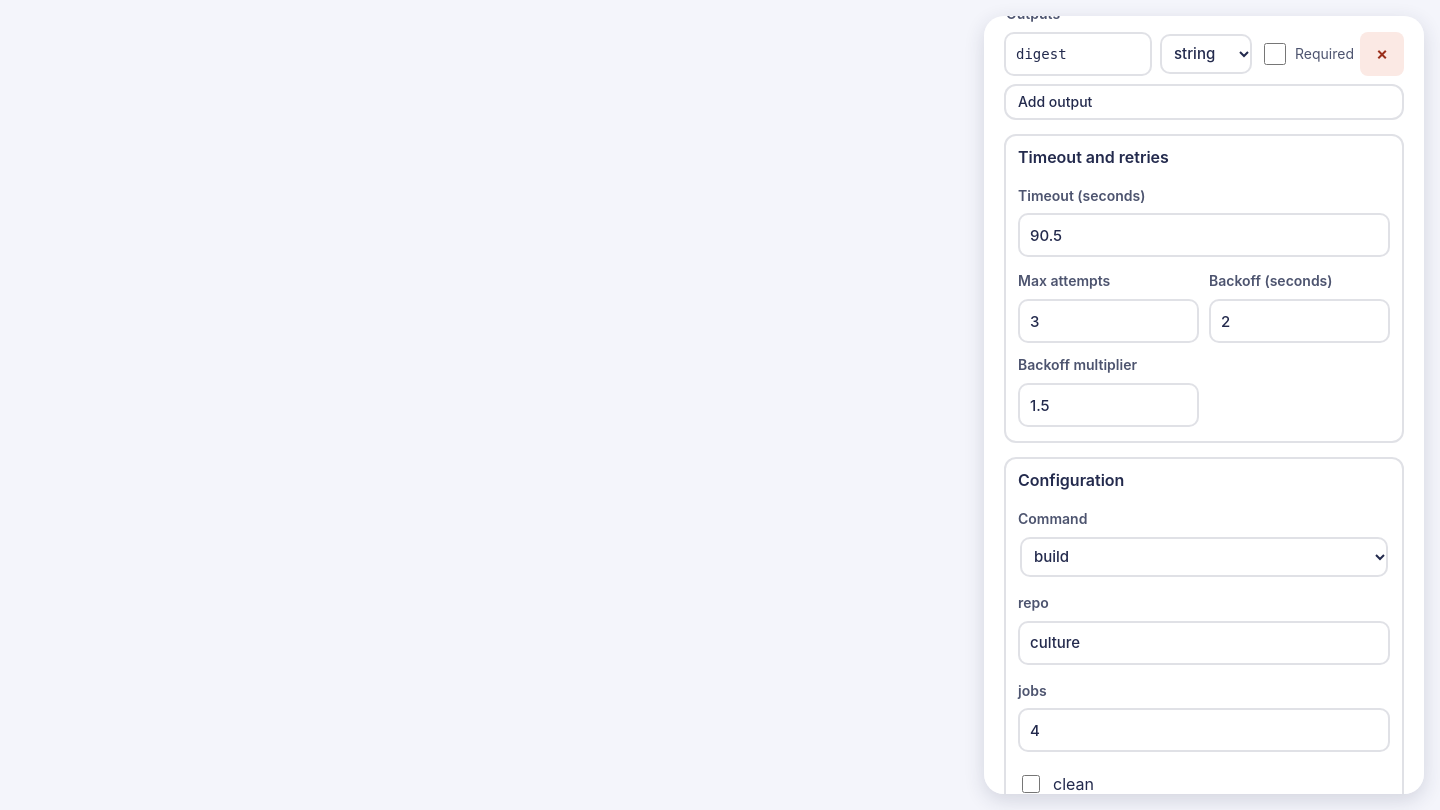
Test: StepEditor: guided validation › rejects Backoff multiplier = 0.5
(page scrolled)
Replace the text in the field labelled "Backoff multiplier" with "0.5" at (1108, 405), box [1018,383,1199,427]
(page scrolled)
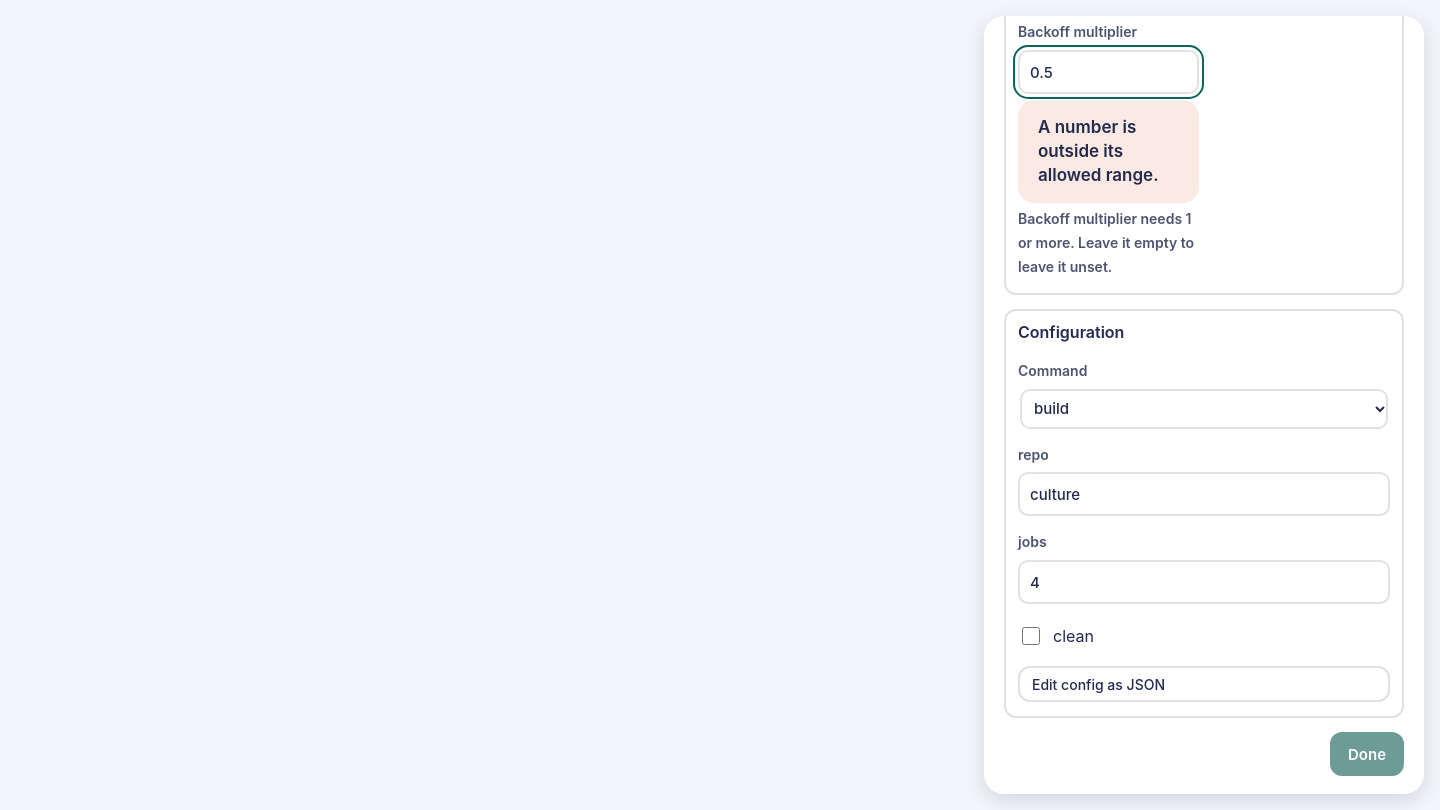
Expected: the message "A number is outside its allowed range." is shown, [1018,100,1199,203]
Expected: the button "Done" is disabled, [1330,732,1404,776]
